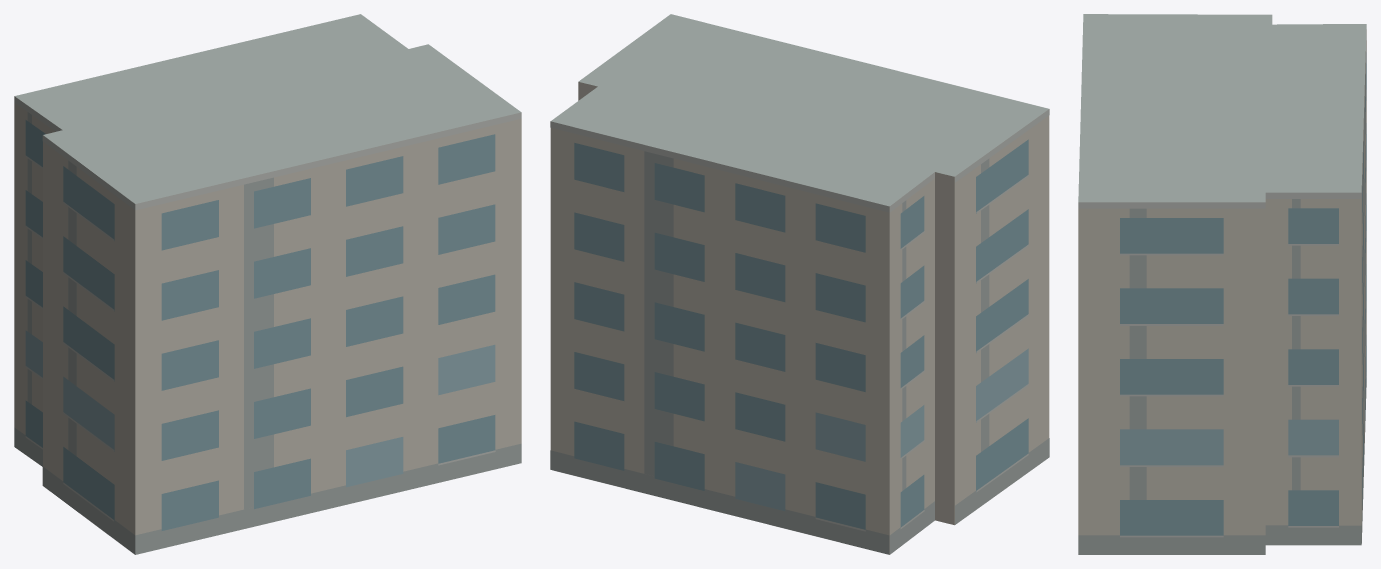
Rendered from survey-upis-32617377.glb.
3 renders of one model, left to right at view 1: azimuth 30°, elevation 25°; view 2: azimuth 150°, elevation 25°; view 3: azimuth 270°, elevation 25°, orthographic.
Visible parts, largest first — view 1: survey-upis-32617377.tmp; view 2: survey-upis-32617377.tmp; view 3: survey-upis-32617377.tmp.
Boxes of the visible parts, <box> form: survey-upis-32617377.tmp: <box>14,14,521,554</box>; survey-upis-32617377.tmp: <box>550,14,1049,554</box>; survey-upis-32617377.tmp: <box>1078,14,1366,554</box>.
Size of the model in its own units: 15.47 by 13.5 by 10.02.
